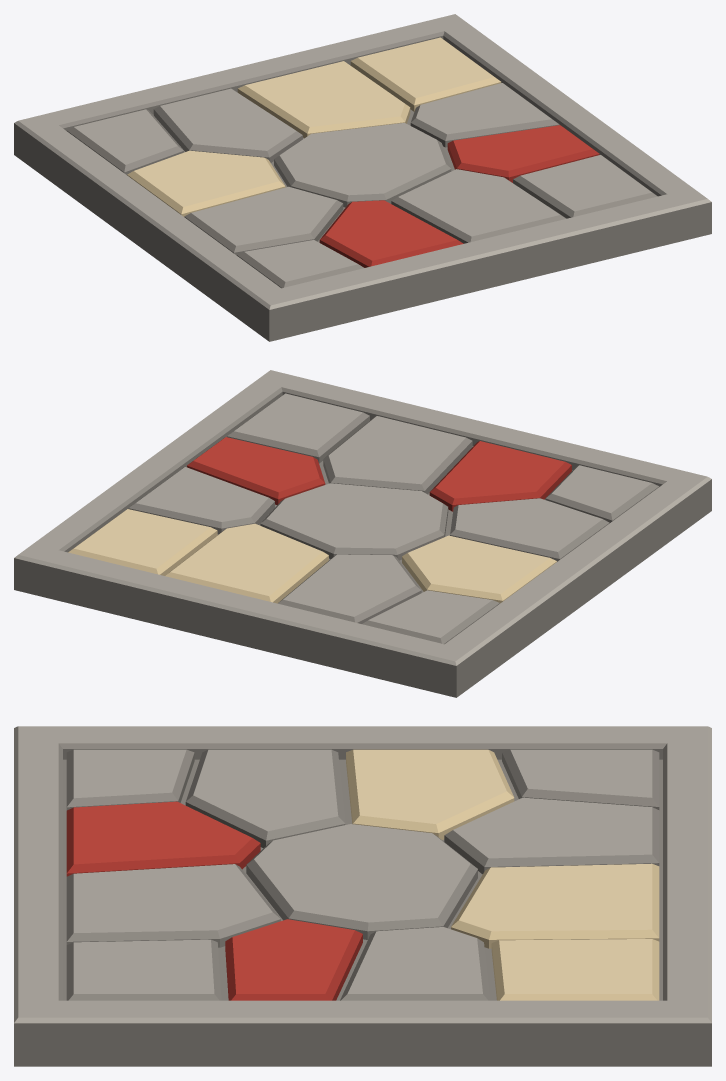
The model's file is FMS_Workshop_MOD_02.fbx.
3 renders of one model, top to bottom at view 1: azimuth 30°, elevation 25°; view 2: azimuth 150°, elevation 25°; view 3: azimuth 270°, elevation 25°, orthographic. The views are drawn at different scales.
Visible parts, largest first — view 1: FMS_Workshop_MOD_02_Body; view 2: FMS_Workshop_MOD_02_Body; view 3: FMS_Workshop_MOD_02_Body.
Boxes of the visible parts, box(x1,y1,x2,y2) form: FMS_Workshop_MOD_02_Body: box(14, 14, 711, 341); FMS_Workshop_MOD_02_Body: box(14, 370, 711, 697); FMS_Workshop_MOD_02_Body: box(14, 726, 711, 1066).
Bounding box in the file's own units: 2 × 0.15 × 2.
